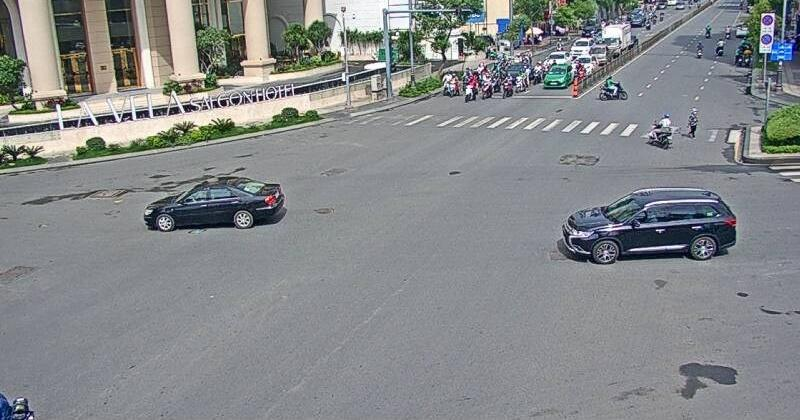xe hoi: (555, 188, 731, 265), (144, 175, 287, 232)
xe may: (647, 111, 673, 151), (597, 74, 626, 101)
